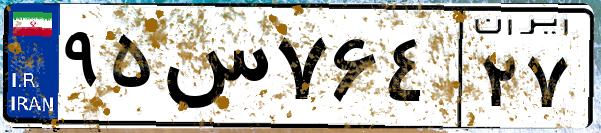2: (475, 38, 525, 113)
4: (385, 28, 445, 110)
5: (110, 28, 158, 98)
6: (330, 28, 385, 110)
7: (270, 28, 330, 110), (525, 38, 570, 115)
9: (57, 26, 110, 100)
س: (158, 20, 270, 120)
